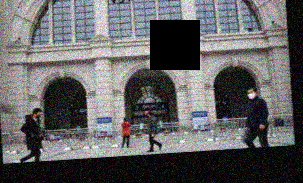with_mask: (246, 88, 257, 99), (35, 111, 42, 119)
